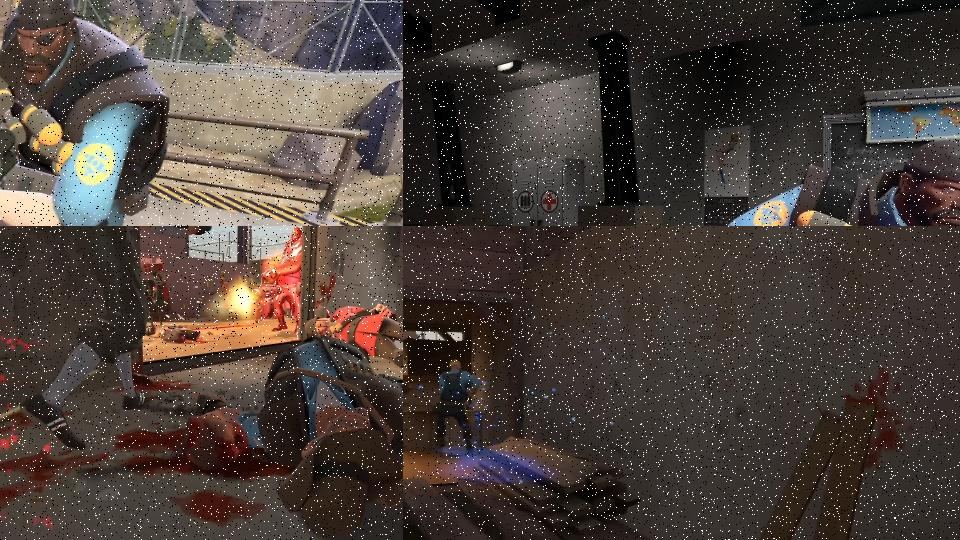Enemy: (17, 226, 211, 444), (197, 336, 403, 528), (0, 0, 171, 226), (714, 136, 960, 226), (305, 303, 403, 366), (249, 227, 303, 336), (432, 359, 480, 455)
